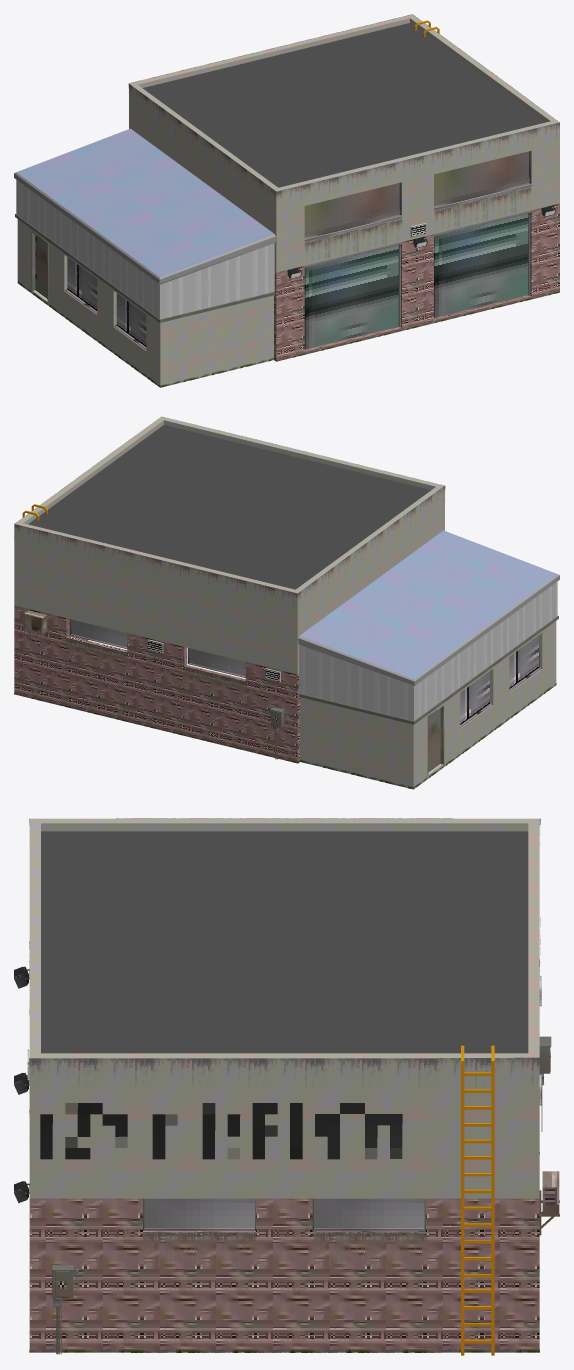
File: city_depot.glb
3 renders of one model, top to bottom at view 1: azimuth 30°, elevation 25°; view 2: azimuth 150°, elevation 25°; view 3: azimuth 270°, elevation 25°, orthographic. The views are drawn at different scales.
Visible parts, largest first — view 1: depotRoof, depot2Floor, metalRoof.Depot, depotExternal, metalRoof.Depot.001, depotWall, rollUpdoor-Noparking, rollUpdoor-Noparking.001, industrialWindow.013, industrialWindow, decalTop, windowDecal (+6 smaller); view 2: depotRoof, depot2Floor, depotWall, metalRoof.Depot, depotExternal, metalRoof.Depot.001, decalTop, normalWindow.001, normalWindow, industrialDoor.006, narrow window.003, narrow window.002 (+5 smaller); view 3: depotRoof, depot2Floor, depotWall, signWall, decalTop, ladder.001, narrow window.001, narrow window, windowDecal.003, windowDecal.002, baseboarddecal.001, eletricBox-Low.002 (+1 smaller).
Boxes of the visible parts, <box> form: depotRoof: <box>142,23,545,187</box>; depot2Floor: <box>129,14,559,272</box>; metalRoof.Depot: <box>14,128,275,284</box>; depotExternal: <box>17,219,273,386</box>; metalRoof.Depot.001: <box>15,180,275,322</box>; depotWall: <box>274,203,559,360</box>; rollUpdoor-Noparking: <box>434,210,531,317</box>; rollUpdoor-Noparking.001: <box>304,242,401,349</box>; industrialWindow.013: <box>304,182,401,241</box>; industrialWindow: <box>434,151,531,210</box>; decalTop: <box>128,14,559,206</box>; windowDecal: <box>434,187,531,230</box>; depotRoof: <box>28,425,431,589</box>; depot2Floor: <box>14,416,444,674</box>; depotWall: <box>14,605,299,762</box>; metalRoof.Depot: <box>298,530,559,686</box>; depotExternal: <box>300,621,556,789</box>; metalRoof.Depot.001: <box>299,581,558,724</box>; decalTop: <box>14,430,445,607</box>; normalWindow.001: <box>509,635,541,691</box>; normalWindow: <box>460,671,492,727</box>; industrialDoor.006: <box>427,705,444,775</box>; narrow window.003: <box>187,648,245,677</box>; narrow window.002: <box>69,619,127,648</box>; depotRoof: <box>41,831,528,1053</box>; depot2Floor: <box>29,818,539,1198</box>; depotWall: <box>29,1198,539,1352</box>; signWall: <box>40,1103,402,1159</box>; decalTop: <box>29,818,540,1086</box>; ladder.001: <box>461,1045,494,1355</box>; narrow window.001: <box>312,1198,425,1230</box>; narrow window: <box>143,1198,255,1230</box>; windowDecal.003: <box>313,1232,426,1270</box>; windowDecal.002: <box>142,1232,255,1270</box>; baseboarddecal.001: <box>29,1110,539,1352</box>; eletricBox-Low.002: <box>52,1265,78,1354</box>.
Size of the model in its own units: 14.3 by 5.85 by 9.64.
Materials: 19 (19 with a texture image).
